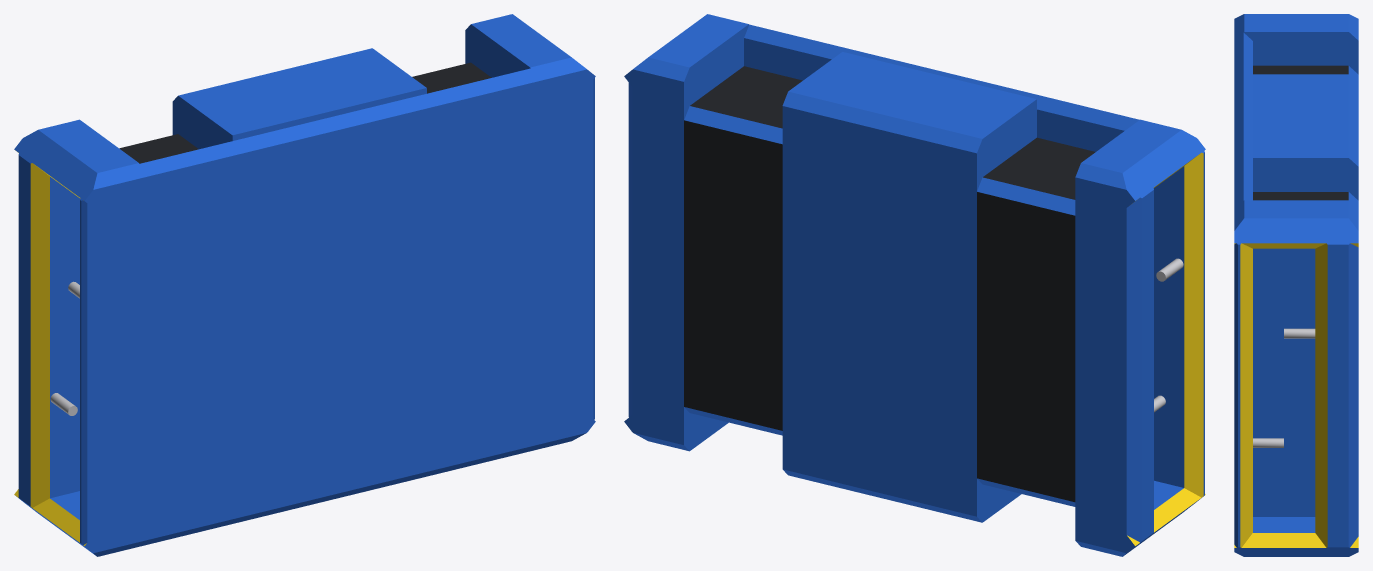
File: chassis_body.obj
The picture shows the model from 3 angles, left to right: view 1: azimuth 30°, elevation 25°; view 2: azimuth 150°, elevation 25°; view 3: azimuth 270°, elevation 25°; orthographic projection. The views are drawn at different scales.
Parts seen in each view (by area): view 1: core, dock; view 2: core, dock; view 3: dock, core, pins.
Part boxes in pixels (x1=…): core: x1=119, y1=48, x2=535, y2=546; dock: x1=14, y1=14, x2=595, y2=556; core: x1=684, y1=24, x2=1139, y2=522; dock: x1=624, y1=14, x2=1205, y2=556; dock: x1=1234, y1=14, x2=1358, y2=556; core: x1=1234, y1=32, x2=1358, y2=208; pins: x1=1253, y1=328, x2=1315, y2=447.
Bounding box in the file's own units: 0.42 × 0.3 × 0.1.
